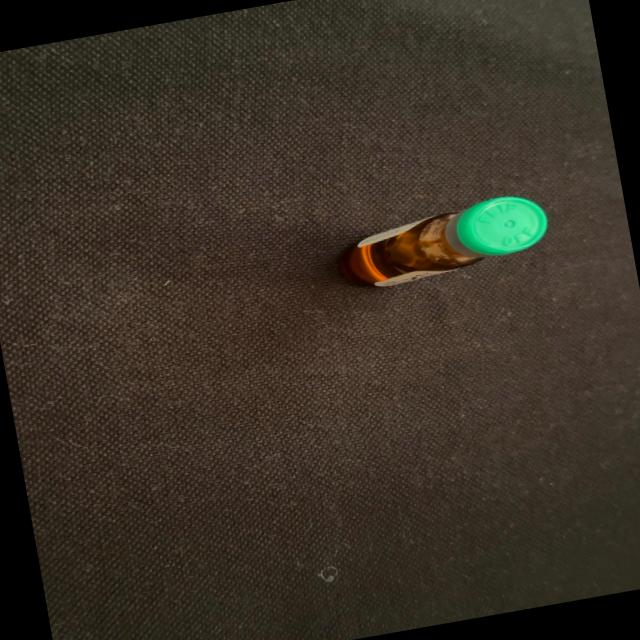midazolm: (340, 191, 548, 291)
